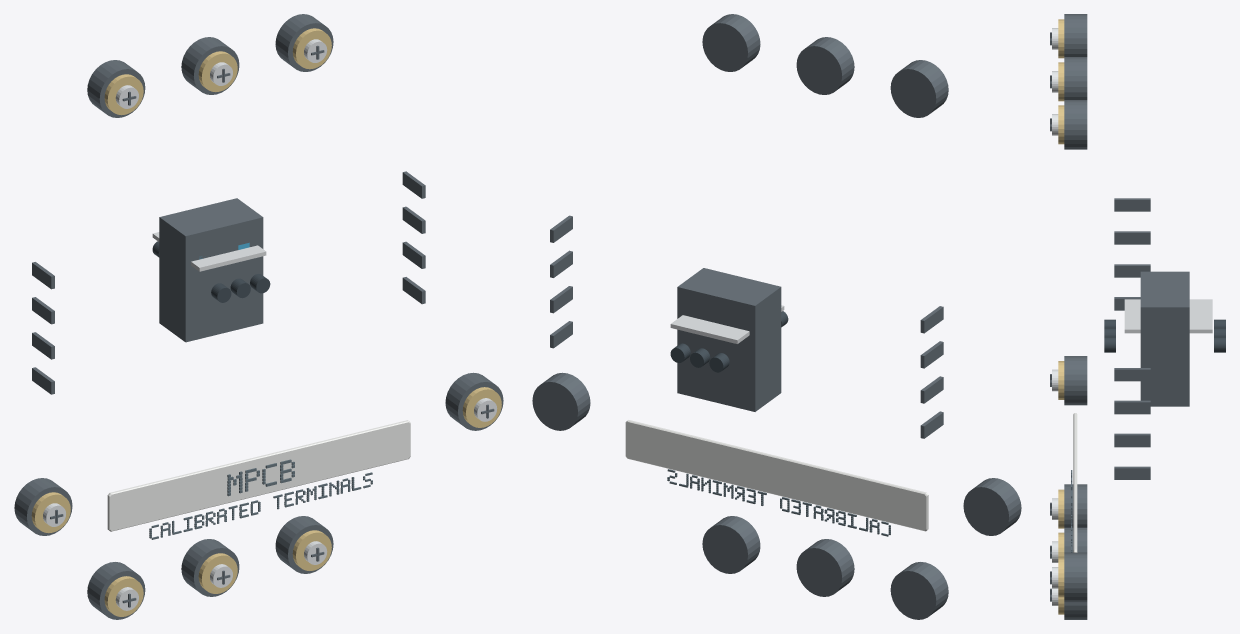
File: motorBreaker.glb
3 views of the same model, side by side, from view 1: azimuth 30°, elevation 25°; view 2: azimuth 150°, elevation 25°; view 3: azimuth 270°, elevation 25° (orthographic). The views are drawn at different scales.
Visible parts, largest first — view 1: motorBreaker-detailed; view 2: motorBreaker-detailed; view 3: motorBreaker-detailed.
Part boxes in pixels (x1,y1,x2,y2): motorBreaker-detailed: (14,14,503,619); motorBreaker-detailed: (532,14,1021,619); motorBreaker-detailed: (1050,14,1225,619).
Size of the model in its own units: 3.27 by 3.61 by 1.11.
